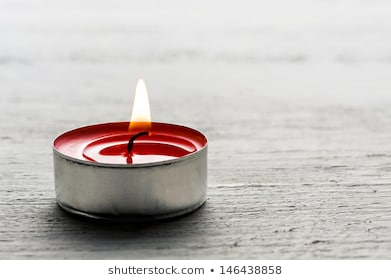Fire: (128, 80, 154, 137)
